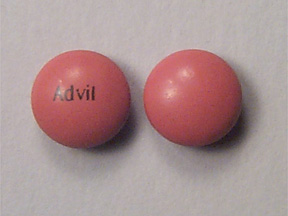Ibuprofen 200 MG Oral Tablet: (28, 46, 139, 157), (142, 45, 252, 153)
